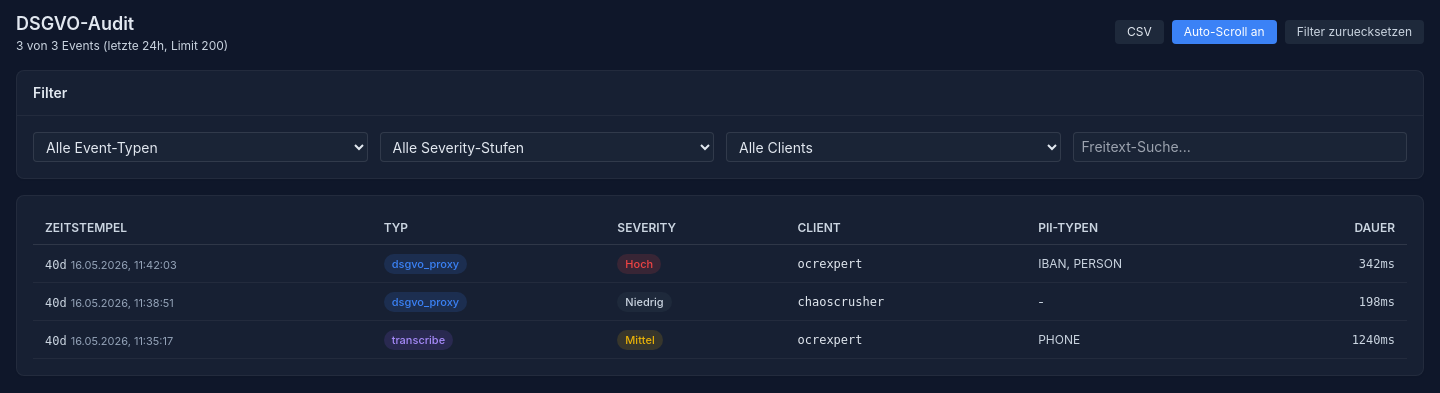
Test: AuditTab › filtert nach event_type: nur dsgvo_proxy-Events sichtbar
Expected: the table with test id "audit-table" is shown, [33,212,1407,359]
Select "dsgvo_proxy" in the dropdown with test id "audit-filter-event-type" at [200, 147], box [33,132,368,162]
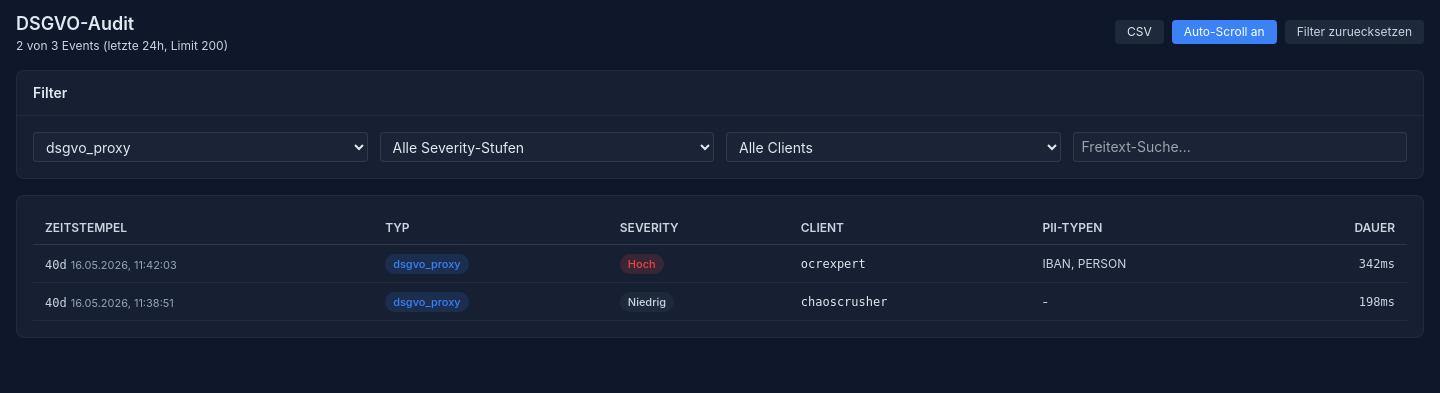
Expected: the row with test id "audit-row-aaa-001" is shown, [33,244,1407,282]
Expected: the row with test id "audit-row-ccc-003" is gone
